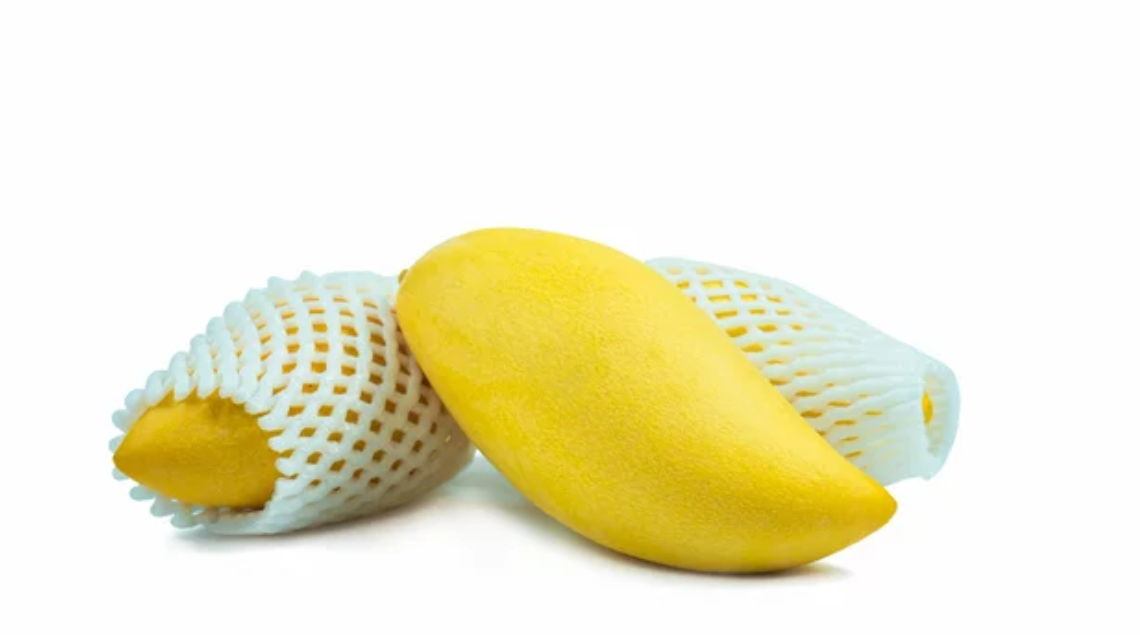mango: (399, 225, 901, 573)
